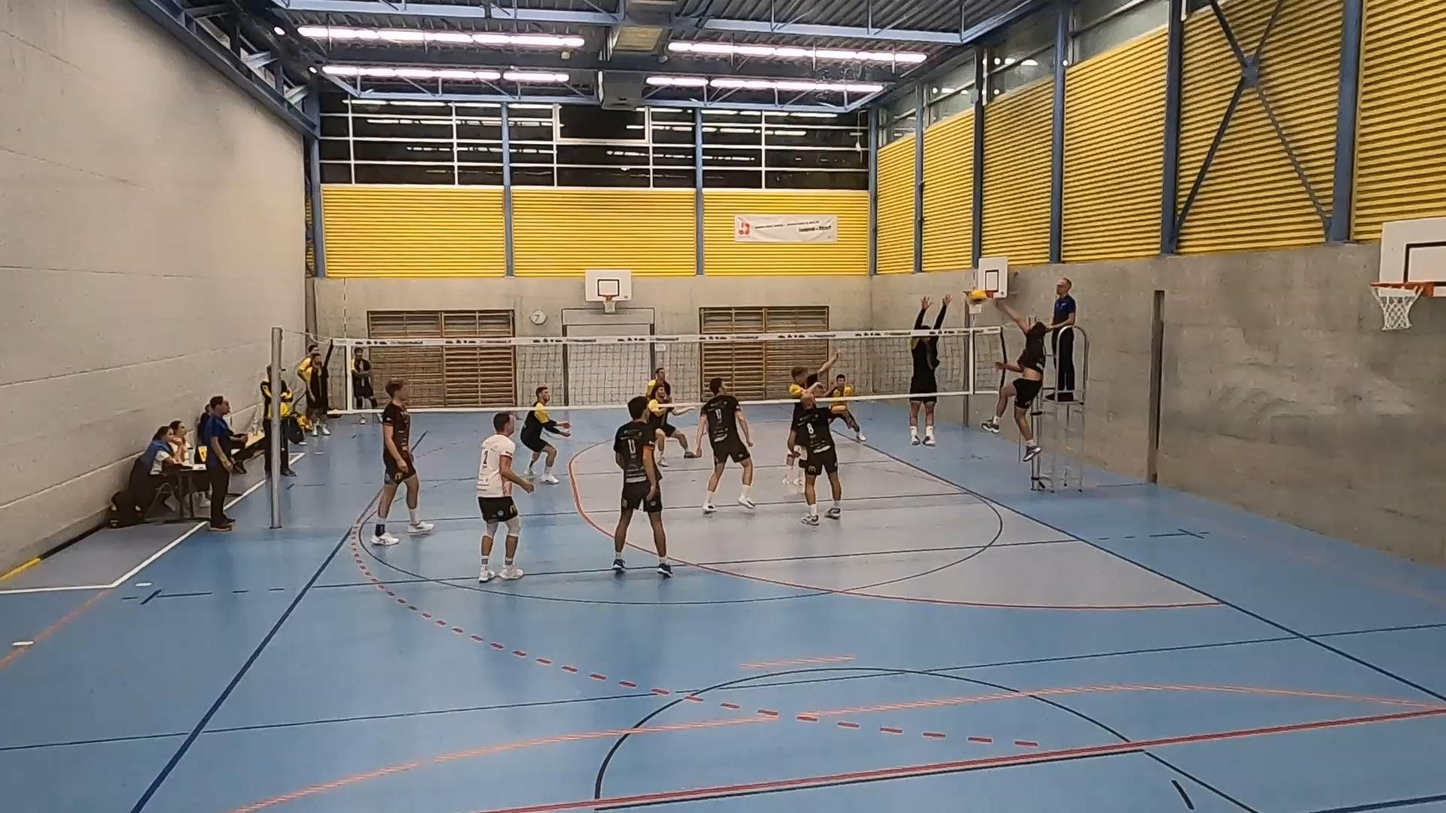attacco: (982, 299, 1075, 448)
muro: (904, 289, 950, 451)
